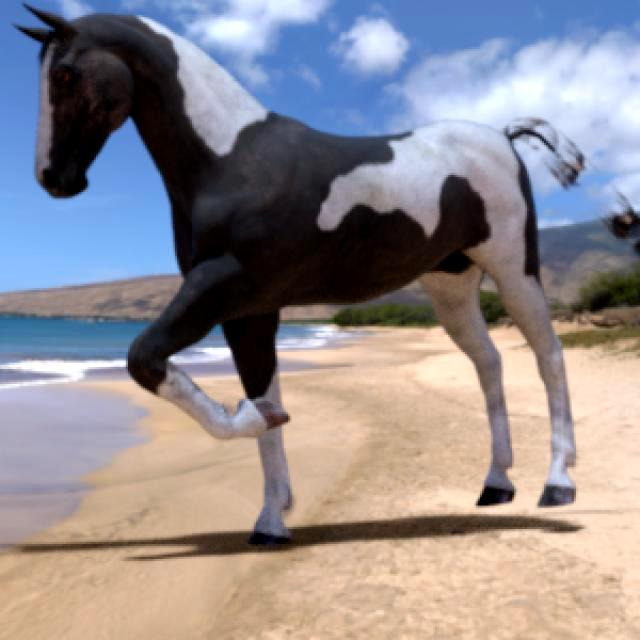horse: (20, 6, 582, 544)
